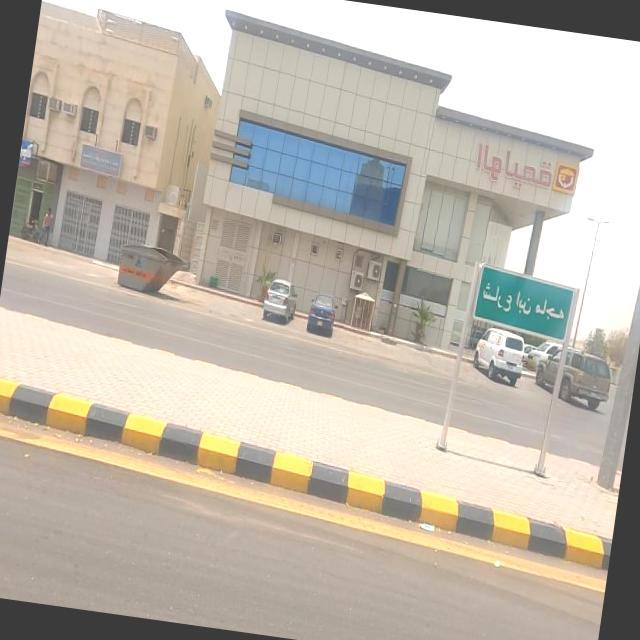debris: (40, 102, 164, 224), (392, 492, 462, 565)
